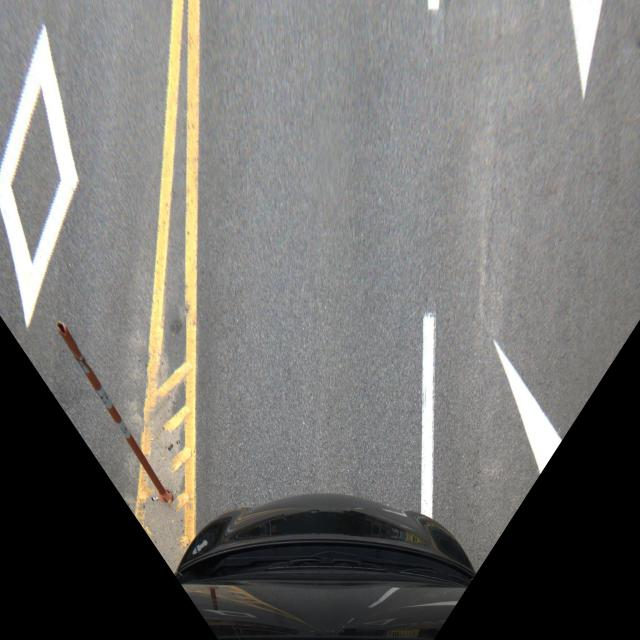chang_lane_left: (424, 319, 640, 509)
